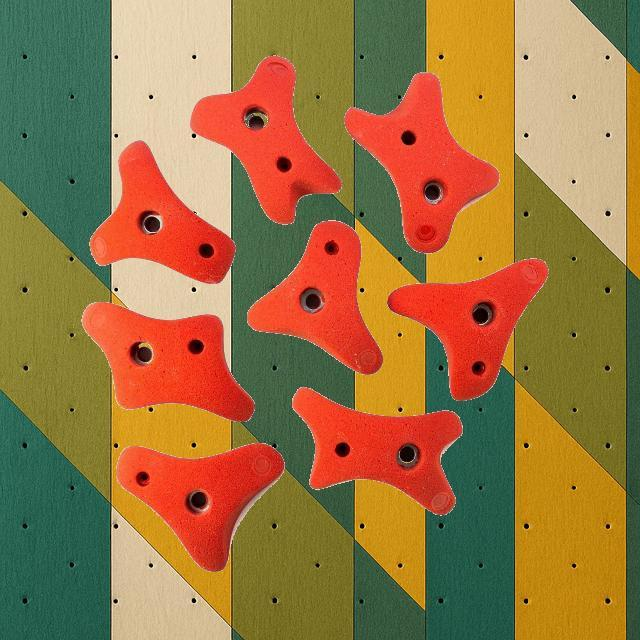Pinch: (343, 71, 499, 253), (189, 56, 341, 222), (386, 255, 550, 400), (290, 386, 462, 516), (114, 442, 282, 572), (88, 138, 235, 284), (80, 300, 254, 422), (245, 220, 382, 374)
